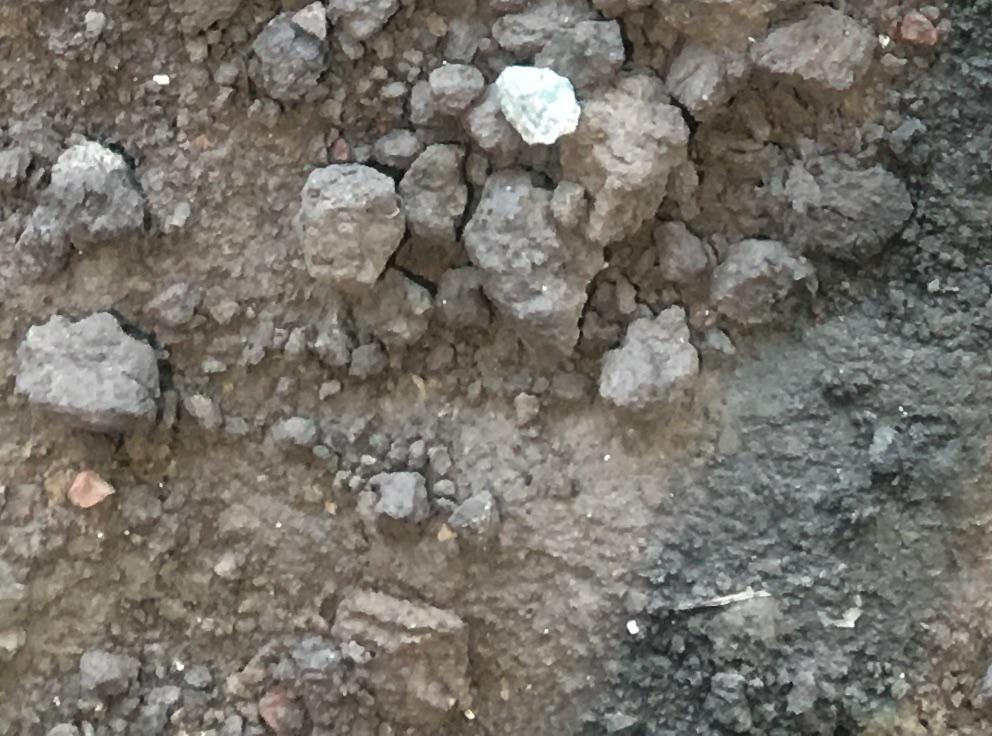block: (468, 168, 592, 363), (20, 142, 154, 280), (17, 315, 165, 438), (294, 160, 403, 293), (601, 310, 698, 427), (705, 232, 808, 334), (757, 5, 873, 93), (498, 62, 582, 145)
